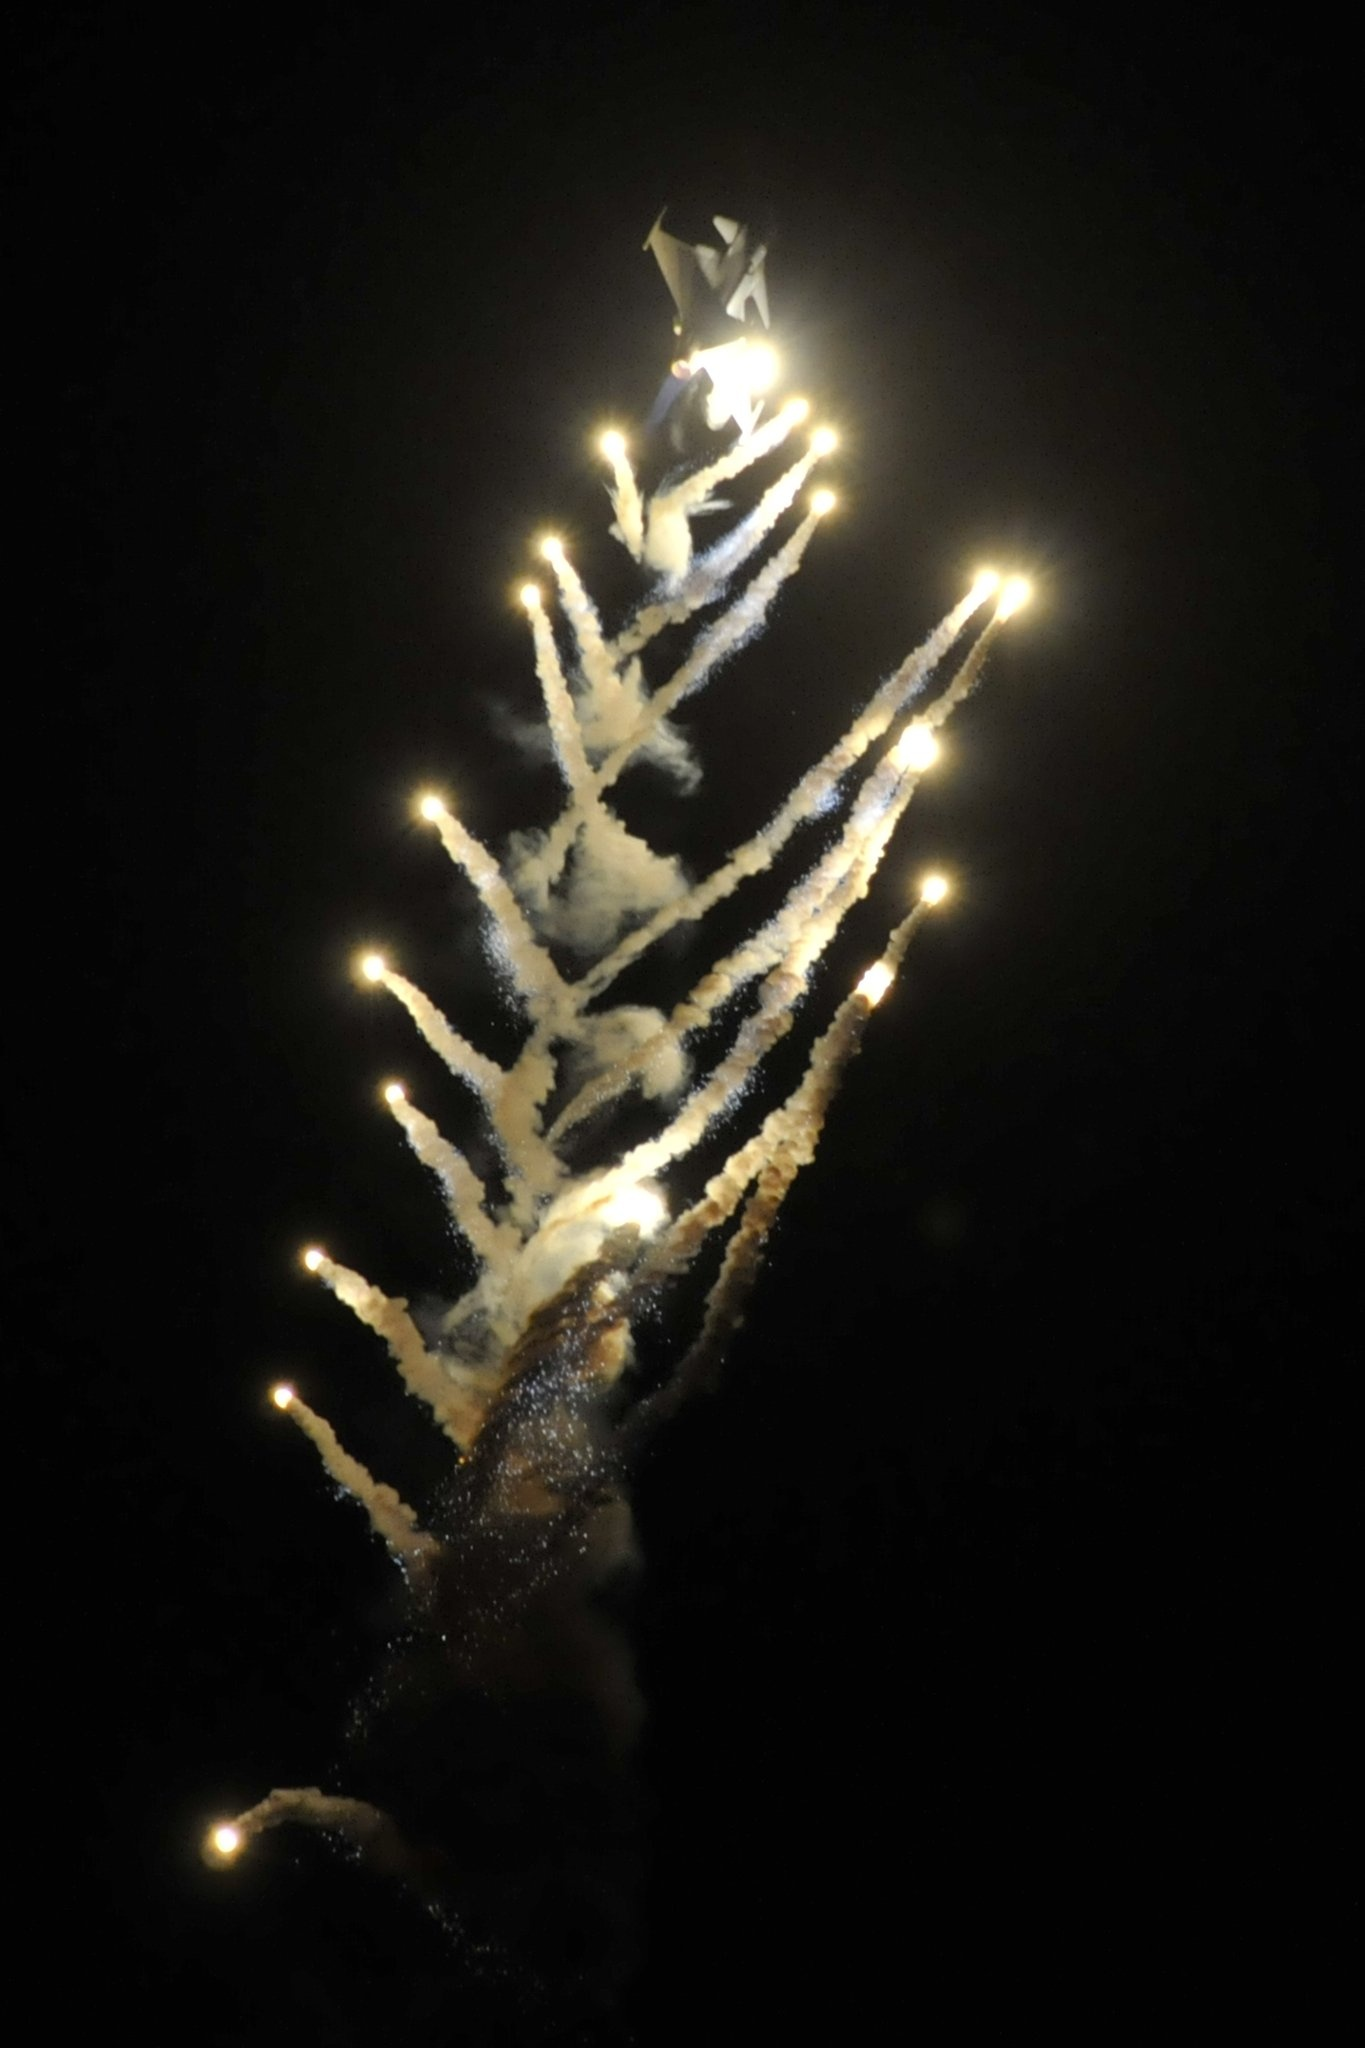JAS39: (641, 206, 792, 445)
